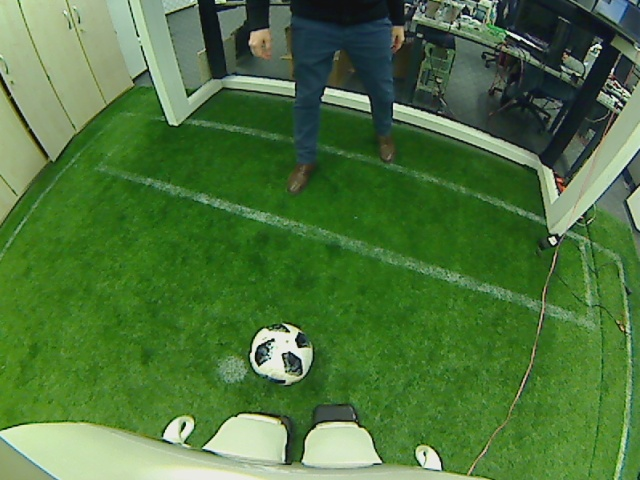ball: (247, 320, 313, 385)
